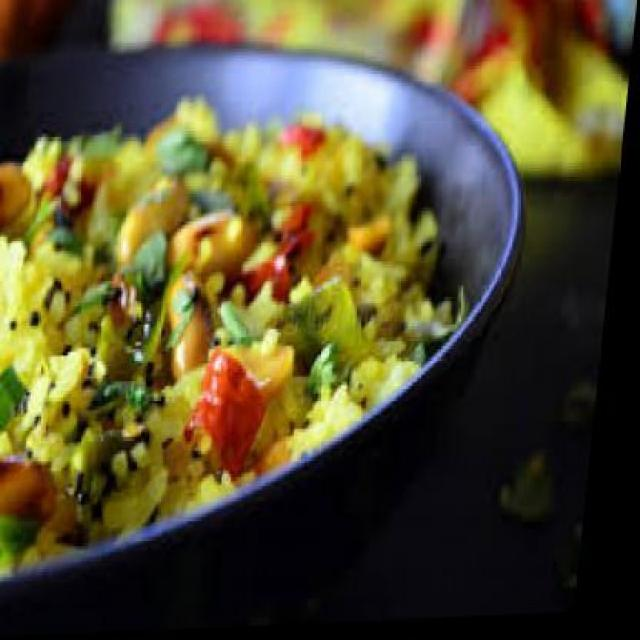poha: (0, 84, 478, 587)
